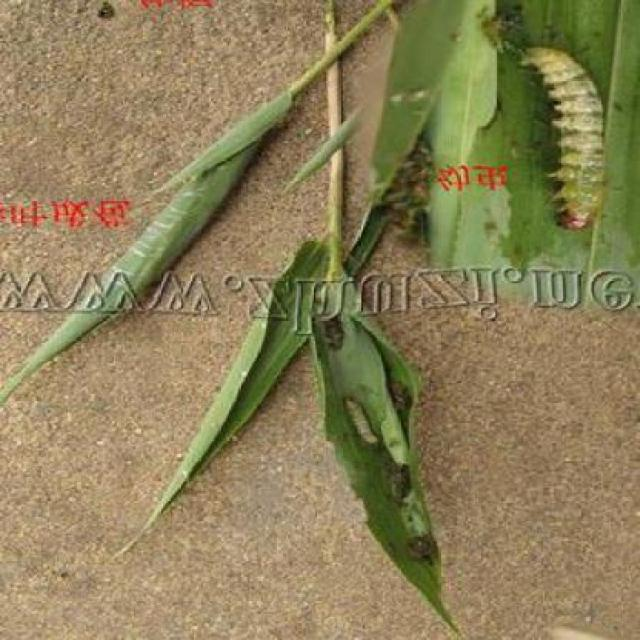leaf-folder: (502, 29, 612, 251), (325, 379, 392, 478)
